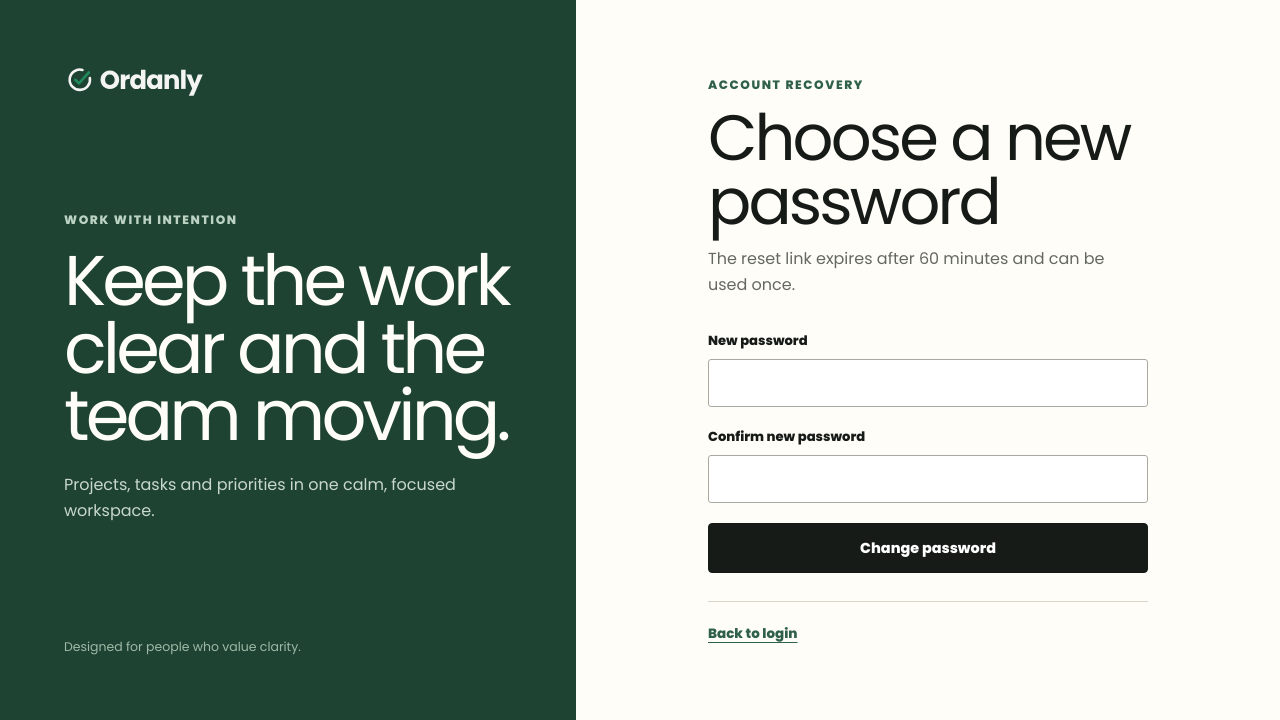
Test: Email verification and password recovery pages › does not reset when the new passwords differ
Type "StrongPass123" into the password field labelled "New password" at (928, 383), box x1=708 y1=359 x2=1148 y2=407
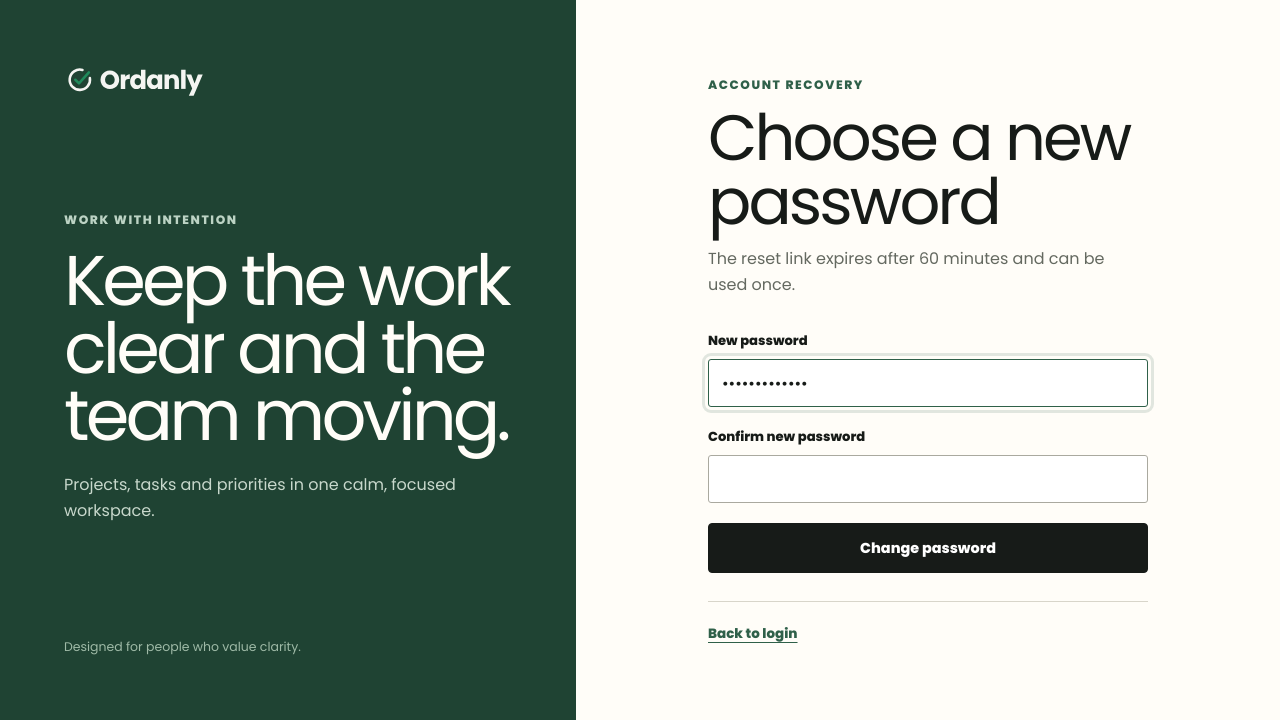
Type "DifferentPass123" into the password field labelled "Confirm new password" at (928, 479), box x1=708 y1=455 x2=1148 y2=503
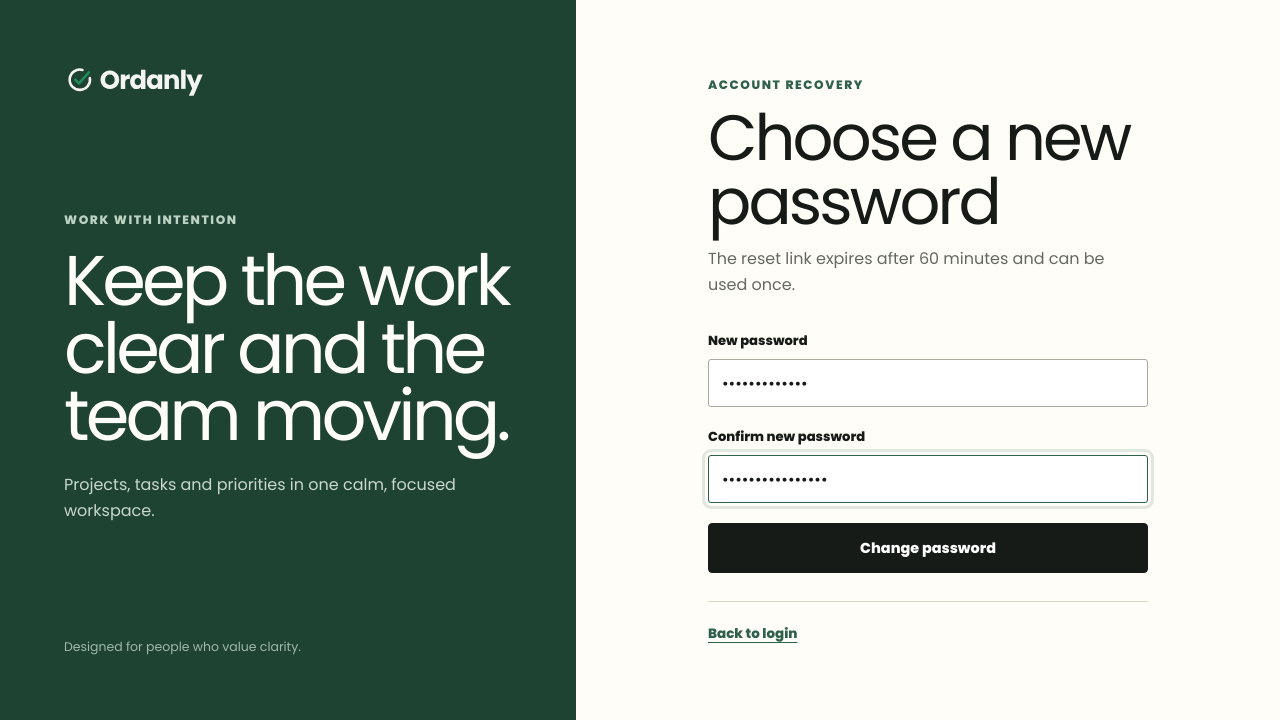
Click the button "Change password" at (928, 548), box x1=708 y1=523 x2=1148 y2=573
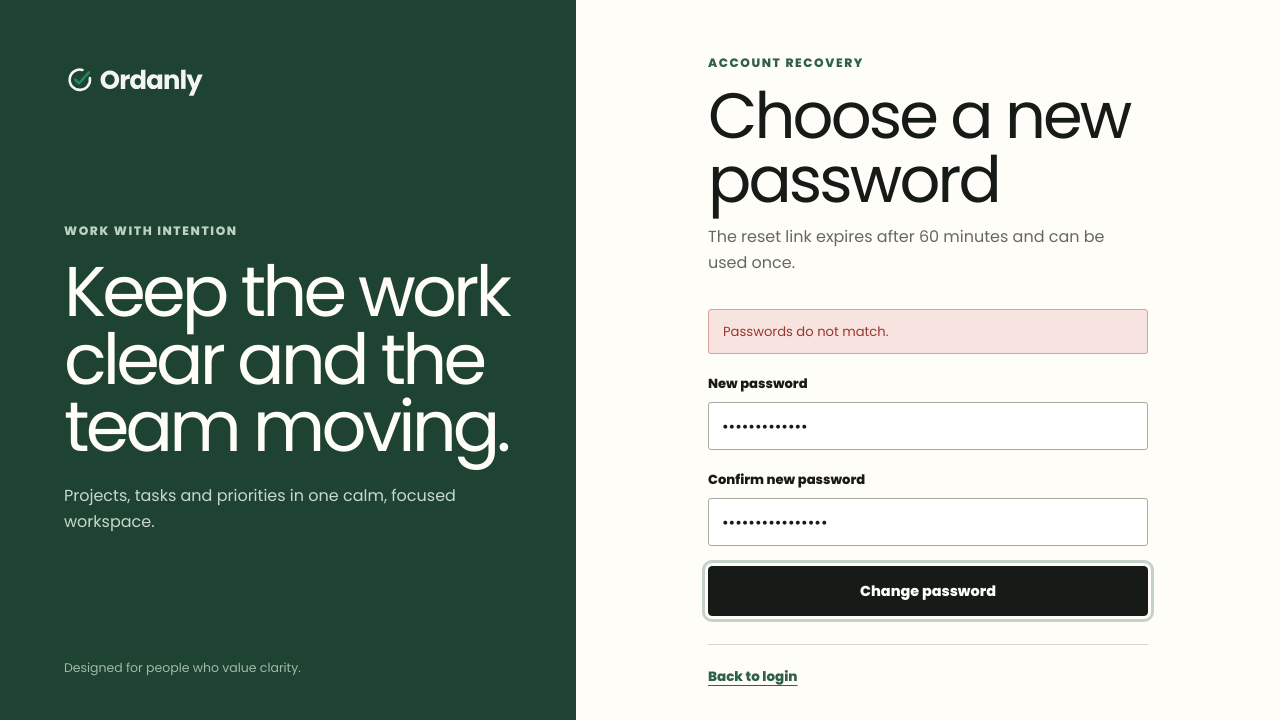
Now the message reads "Passwords do not match.", box x1=723 y1=322 x2=888 y2=341
